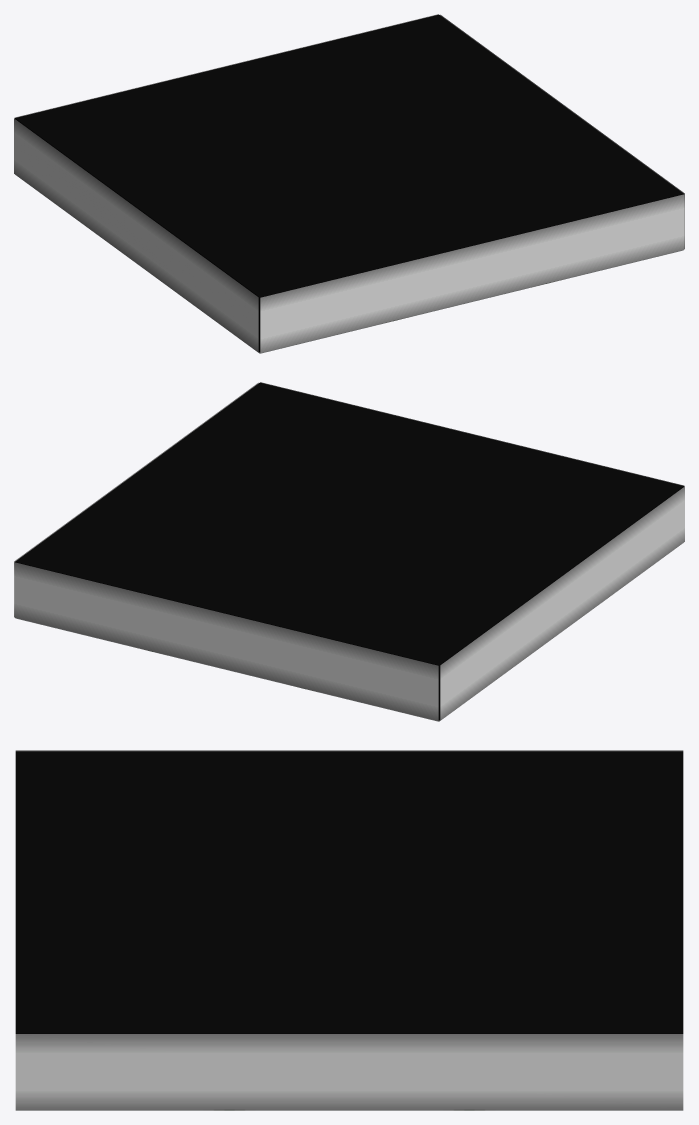
Rendered from arcontroller.obj.
3 views of the same model, one above another, from view 1: azimuth 30°, elevation 25°; view 2: azimuth 150°, elevation 25°; view 3: azimuth 270°, elevation 25° (orthographic). The views are drawn at different scales.
Parts seen in each view (by area): view 1: Arcontroller1, Arcontroller5, Arcontroller6, Arcontroller2; view 2: Arcontroller1, Arcontroller2, Arcontroller6, Arcontroller5; view 3: Arcontroller1, Arcontroller4, Arcontroller3, Arcontroller6.
Part boxes in pixels (x1,y1,x2,y2): Arcontroller1: (15, 14, 683, 352); Arcontroller5: (260, 194, 684, 352); Arcontroller6: (14, 118, 258, 352); Arcontroller2: (14, 14, 438, 118); Arcontroller1: (15, 382, 683, 720); Arcontroller2: (14, 562, 438, 720); Arcontroller6: (440, 486, 684, 720); Arcontroller5: (260, 382, 684, 486); Arcontroller1: (15, 751, 683, 1033); Arcontroller4: (15, 1034, 683, 1109); Arcontroller3: (15, 1109, 683, 1110); Arcontroller6: (15, 750, 683, 751).
Size of the model in its own units: 8.04 by 1.02 by 8.04.
3 materials, 2 textured.
